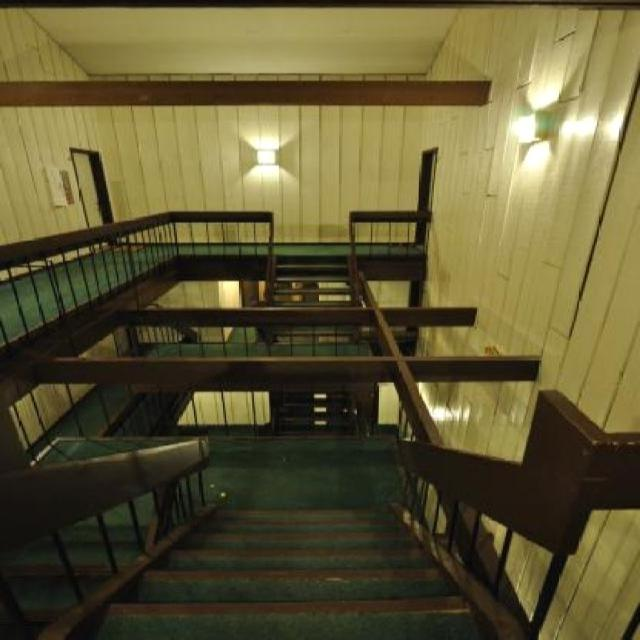stair: (64, 511, 500, 640), (260, 256, 363, 310)
